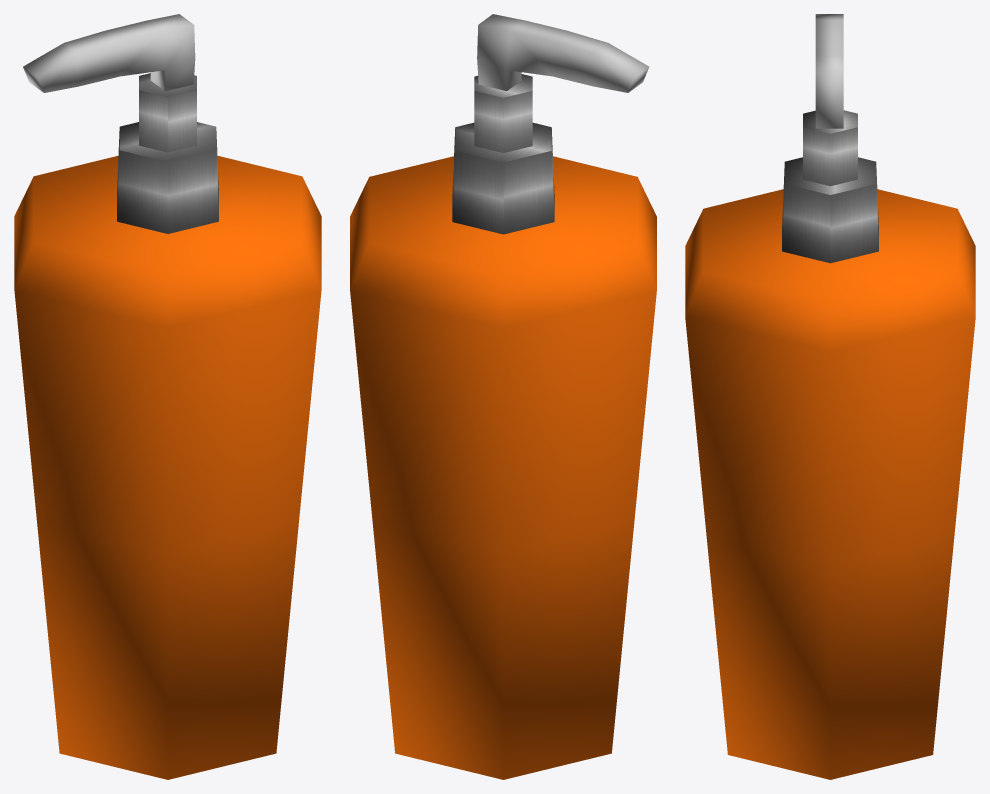
File: Soap_Dispenser_E.FBX
3 renders of one model, left to right at view 1: azimuth 30°, elevation 25°; view 2: azimuth 150°, elevation 25°; view 3: azimuth 270°, elevation 25°, orthographic. The views are drawn at different scales.
Visible parts, largest first — view 1: Soap_Dispenser; view 2: Soap_Dispenser; view 3: Soap_Dispenser.
Part boxes in pixels (x1,y1,x2,y2): Soap_Dispenser: [14, 14, 321, 779]; Soap_Dispenser: [350, 14, 656, 779]; Soap_Dispenser: [685, 14, 975, 779].
Bounding box in the file's own units: 18.48 × 40.55 × 16.01.
